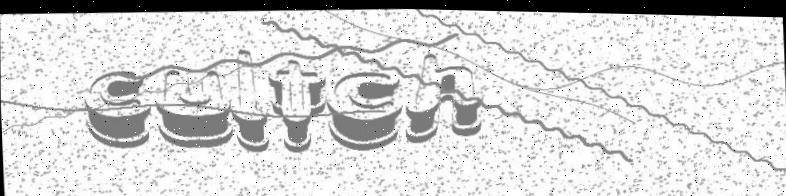c: (325, 66, 403, 151), (81, 67, 153, 150)
h: (401, 49, 483, 143)
l: (229, 45, 271, 152)
t: (267, 56, 327, 153)
u: (153, 65, 233, 150)
